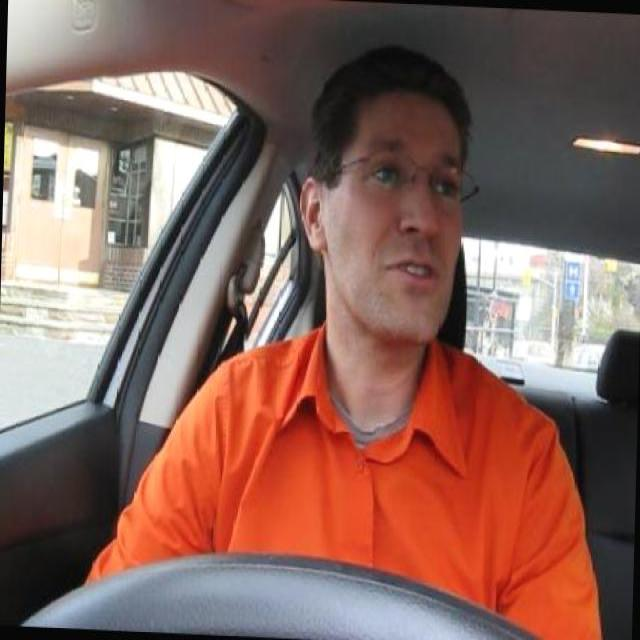no-seatbelt: (186, 320, 570, 585)
